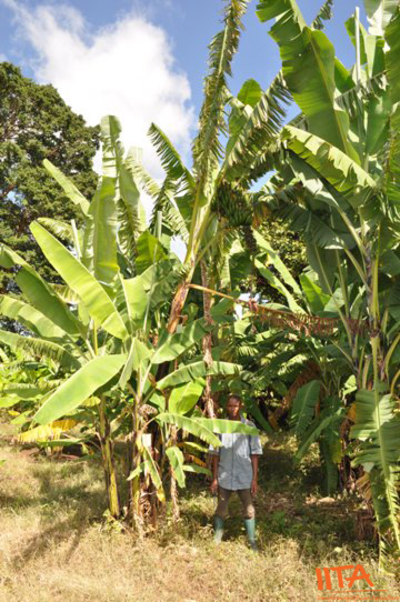bananaHand: (208, 181, 257, 233)
